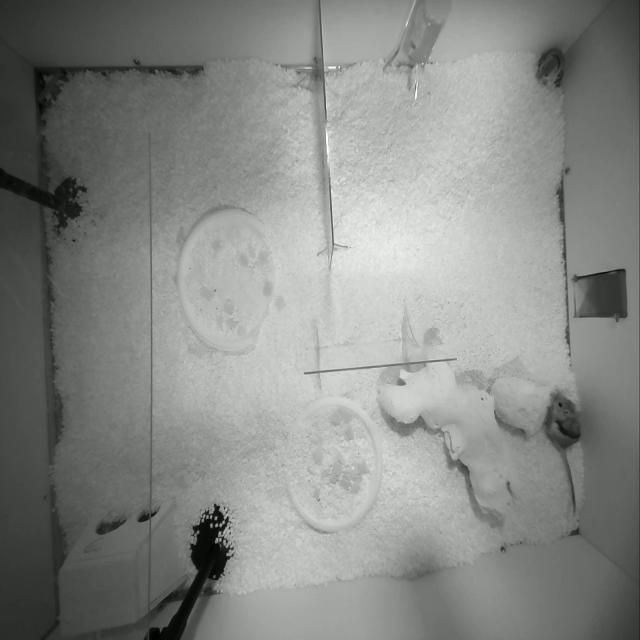adult_front: (543, 393, 581, 513)
pup_h_stripe: (536, 48, 563, 86)
